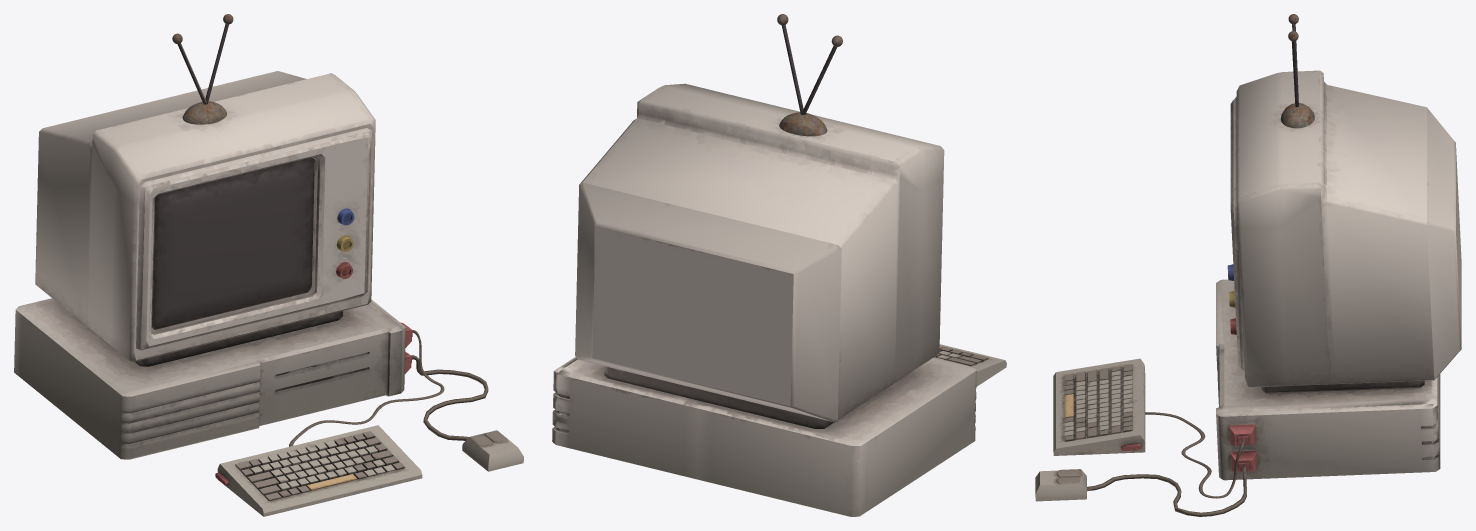
Rendered from old_computer.glb.
The picture shows the model from 3 angles, left to right: view 1: azimuth 30°, elevation 25°; view 2: azimuth 150°, elevation 25°; view 3: azimuth 270°, elevation 25°; orthographic projection. The views are drawn at different scales.
Visible parts, largest first — view 1: Sphere.001, Cube.001; view 2: Sphere.001, Cube.001; view 3: Sphere.001, Cube.001.
Boxes of the visible parts, x1,y1,x2,y2 form: Sphere.001: (14,14,405,459); Cube.001: (215,322,523,516); Sphere.001: (552,14,976,516); Cube.001: (934,344,1006,386); Sphere.001: (1216,14,1461,480); Cube.001: (1035,358,1257,516).
Bounding box in the file's own units: 376 × 400 × 397.
Materials: 2 (2 with a texture image).
